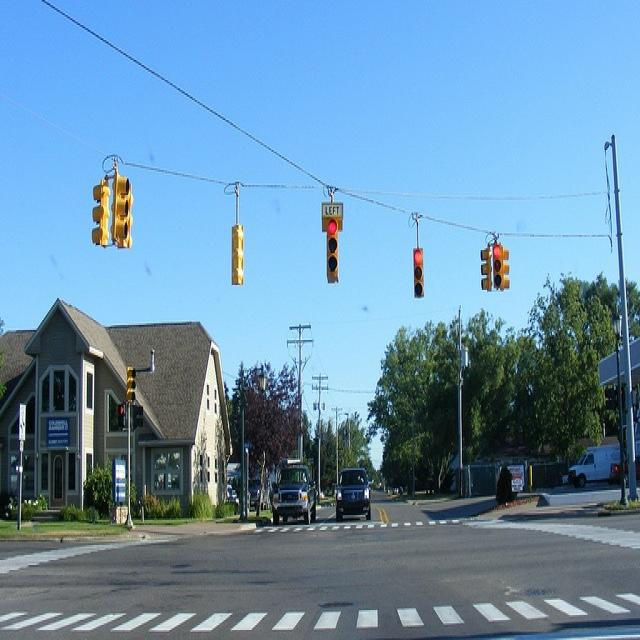car: (334, 465, 370, 518), (606, 454, 639, 484), (247, 473, 259, 502)
pole: (611, 134, 637, 498), (456, 306, 464, 496), (125, 400, 133, 528), (15, 437, 23, 528)
truck: (271, 457, 317, 523), (567, 442, 619, 486)
